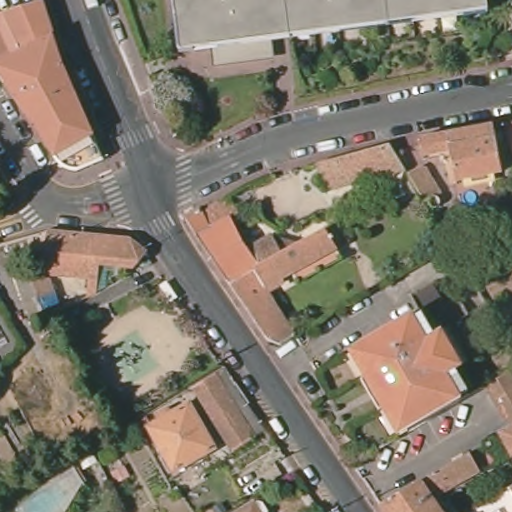pool: (463, 188, 480, 206)
